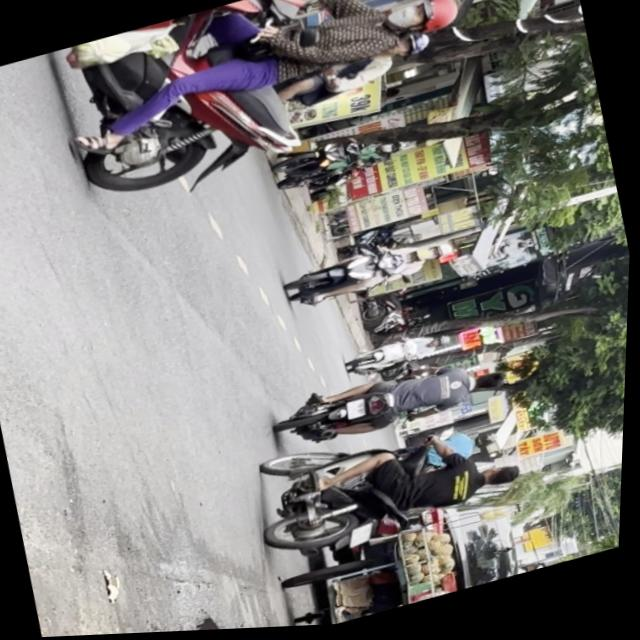helmet: (386, 0, 462, 44), (400, 247, 434, 269), (422, 242, 455, 264)
licenseplate: (45, 0, 492, 220), (254, 412, 541, 572), (273, 342, 521, 461), (279, 227, 461, 317)
motorcyclist: (483, 462, 529, 493), (473, 367, 516, 398)
nohelmet: (348, 399, 372, 422), (355, 525, 379, 548)
